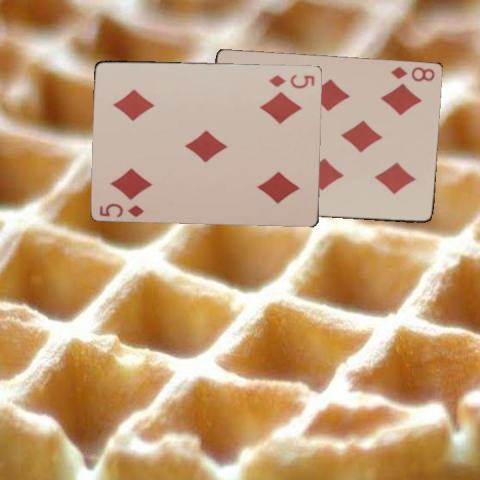5d: (265, 72, 317, 89), (97, 200, 145, 218)
8d: (388, 64, 436, 83)
